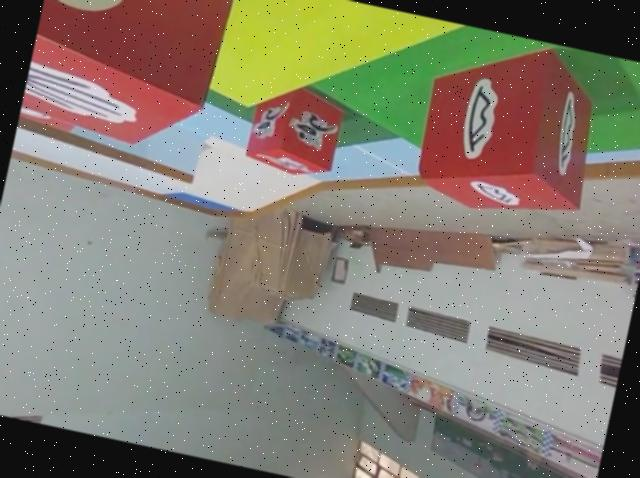R1: (242, 82, 347, 186)
R2 Fake: (17, 0, 238, 160)
R2 Real: (409, 28, 610, 232)
